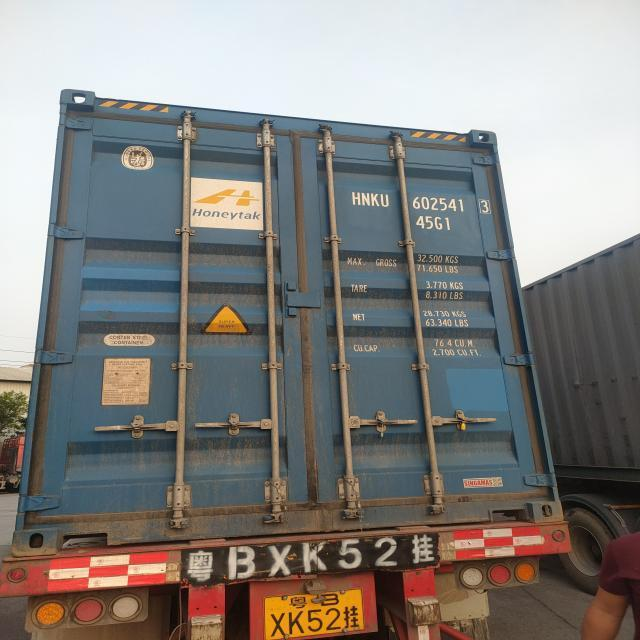ISO: (416, 212, 454, 232)
container_number: (353, 194, 492, 214)
